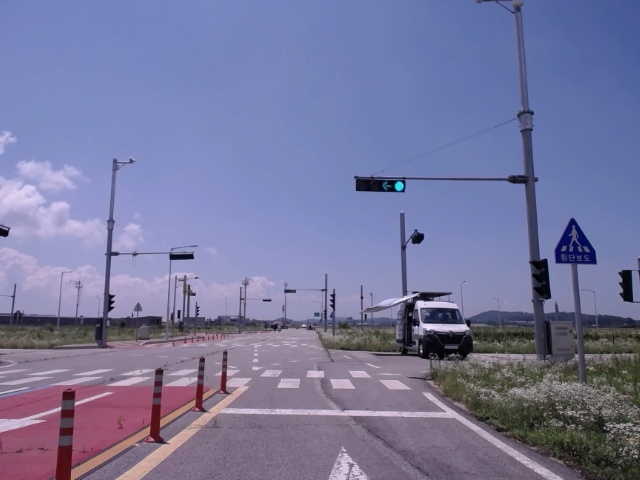all_green_4: (357, 178, 404, 193)
